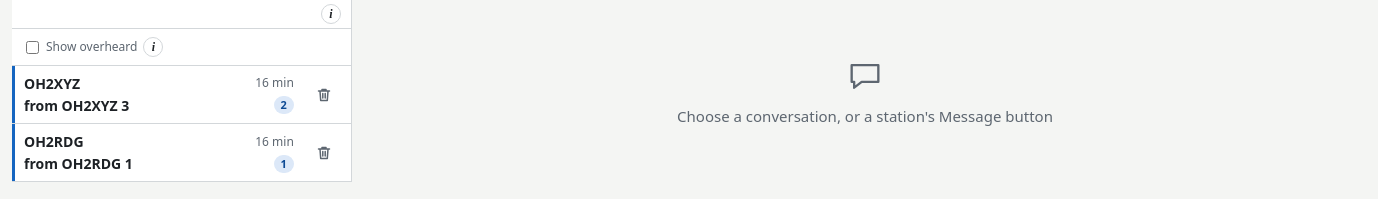
Test: the messages not seen, wide only › deselects the conversation on Esc, and then counts a message that comes in as not seen
Click the button with class "conv" showing "OH2RDG 16 min from OH2RDG 1 1" at point(54, 142), box [12,124,298,181]
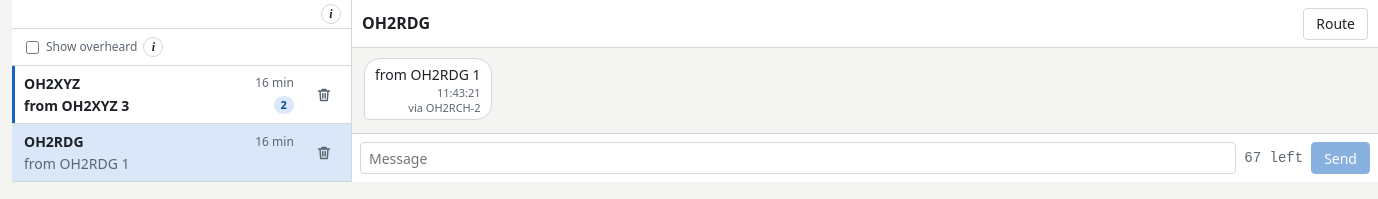
Press Escape in the element with class "convo"
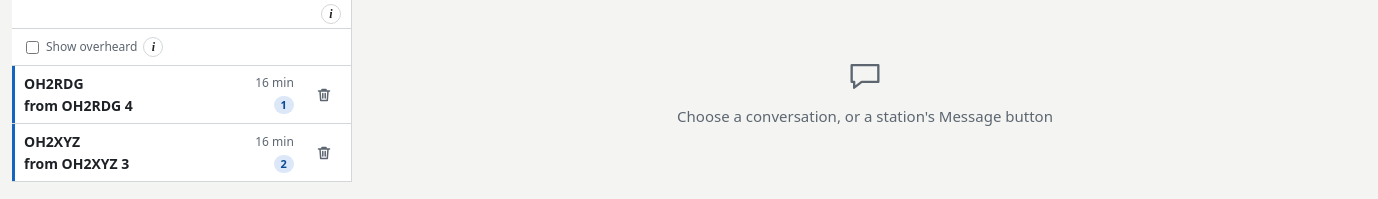
Expected: the element with class "convo-empty" is shown
